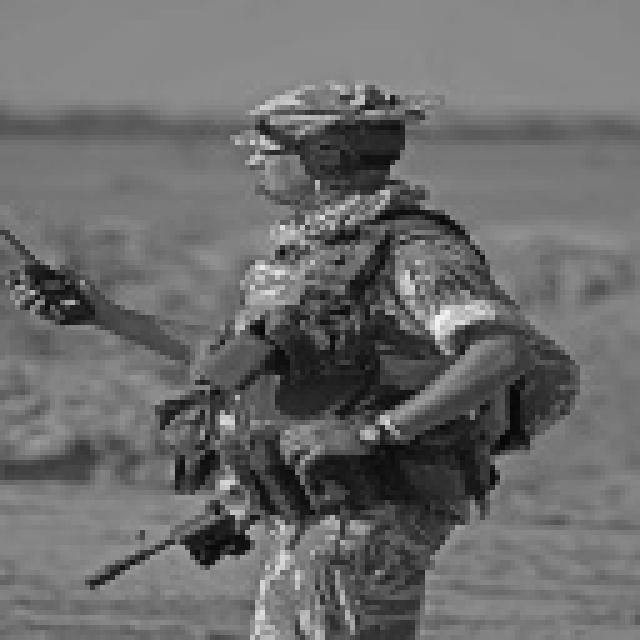Rifle: (70, 352, 428, 614)
